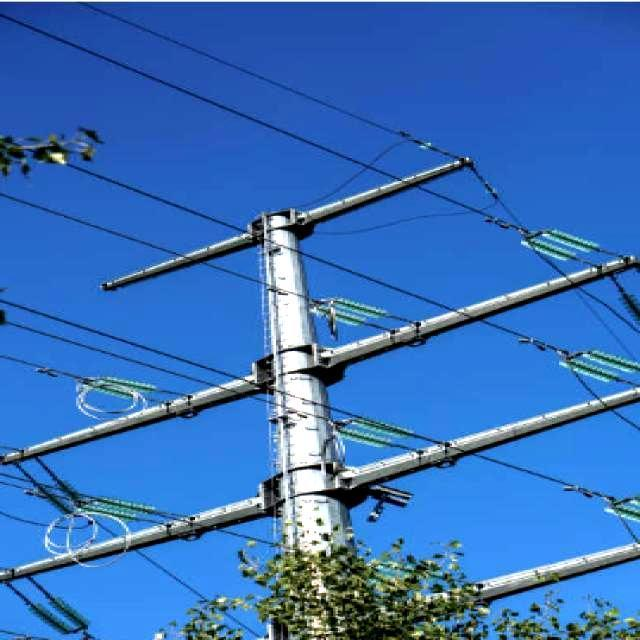critical vegetation: (224, 227, 414, 640)
